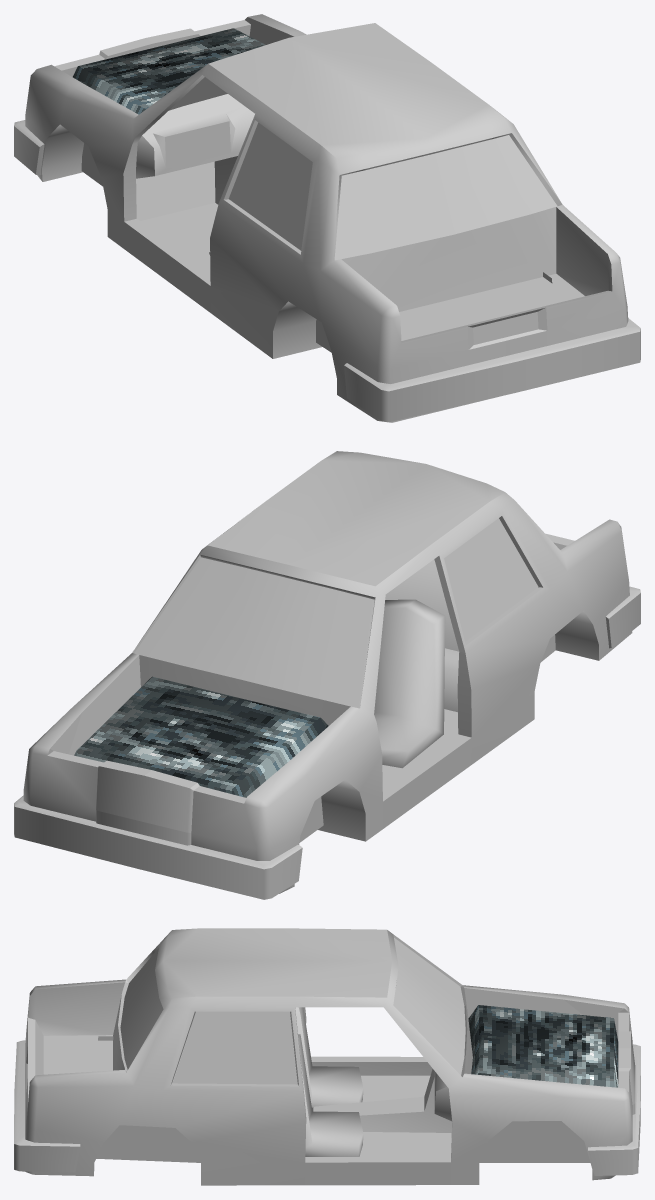
File: skinn_vShape.fbx
The picture shows the model from 3 angles, top to bottom: view 1: azimuth 30°, elevation 25°; view 2: azimuth 150°, elevation 25°; view 3: azimuth 270°, elevation 25°; orthographic projection. The views are drawn at different scales.
Parts seen in each view (by area): view 1: skinn_vShape; view 2: skinn_vShape; view 3: skinn_vShape.
Part boxes in pixels (x1,y1,x2,y2): skinn_vShape: [14, 14, 640, 422]; skinn_vShape: [14, 451, 640, 899]; skinn_vShape: [14, 928, 640, 1185].
Bounding box in the file's own units: 203 × 152 × 503.
